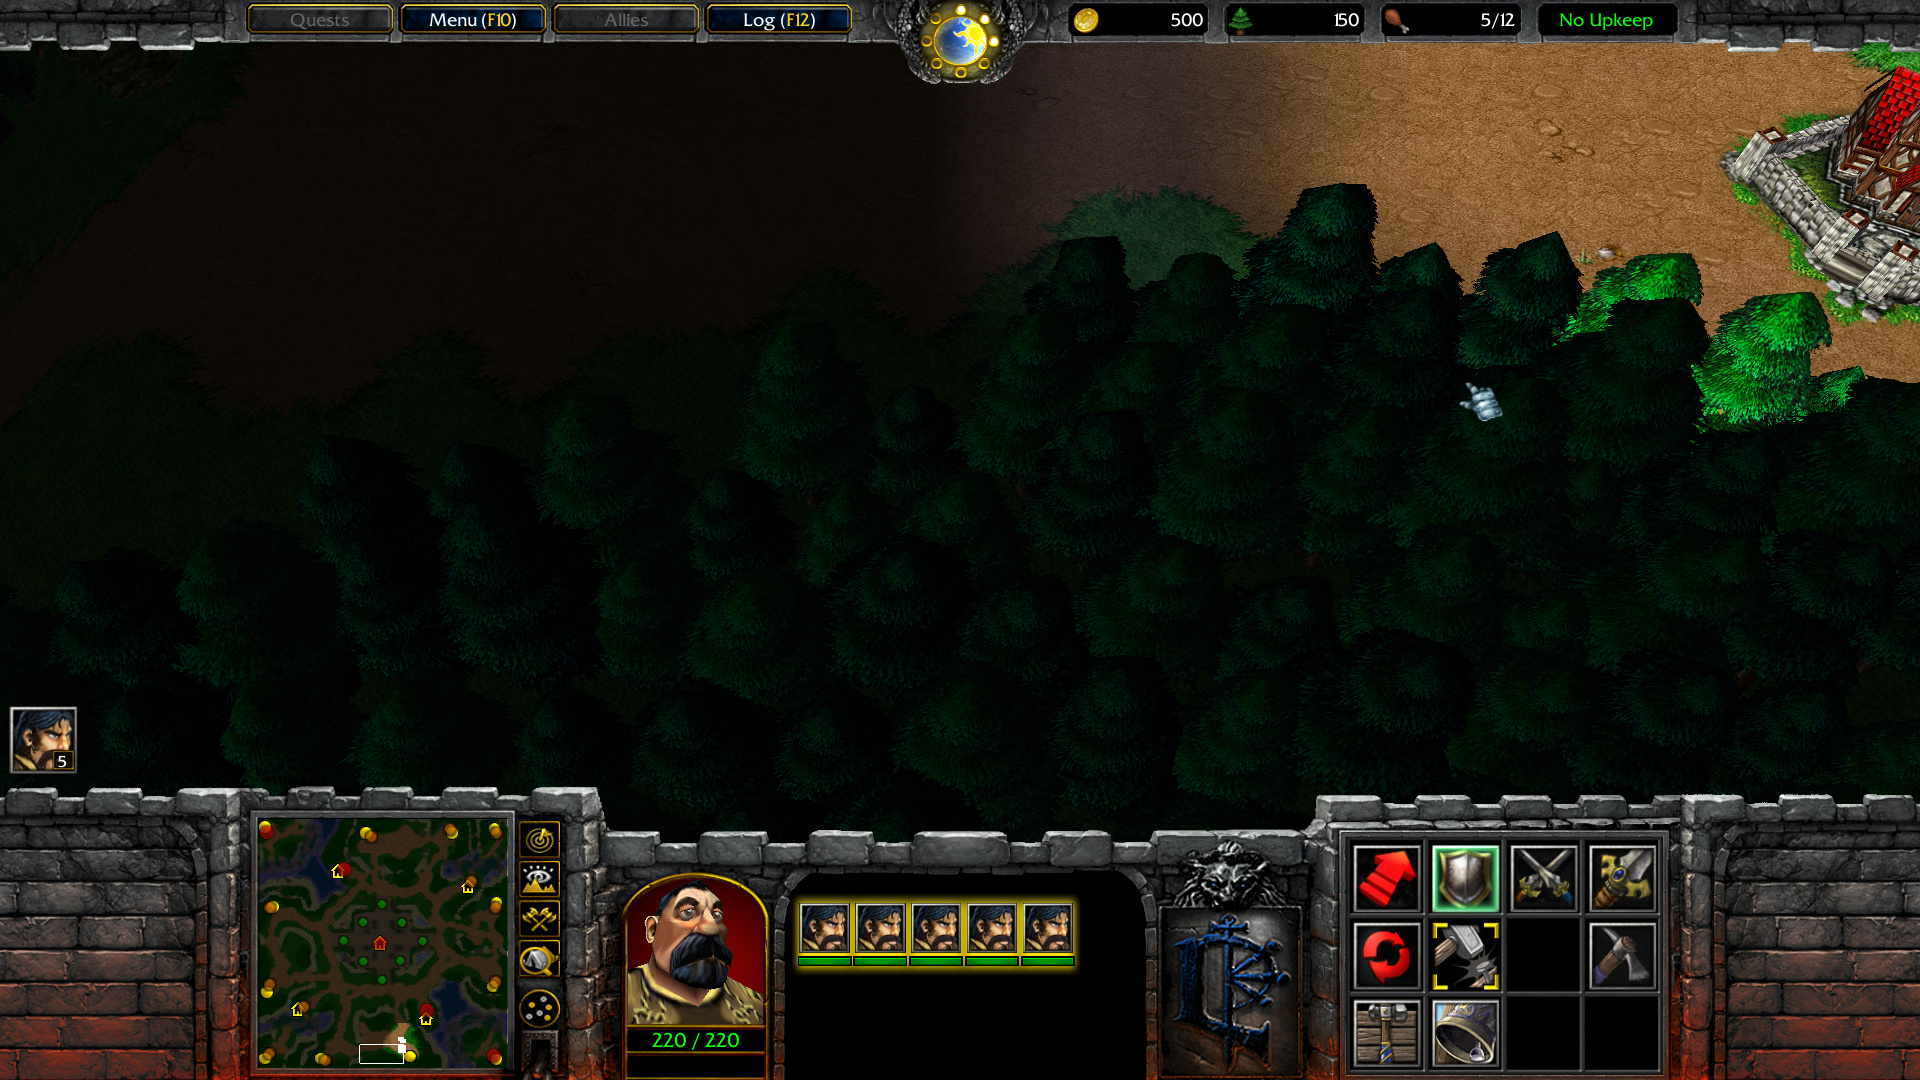Townhall: (1719, 64, 1920, 320)
